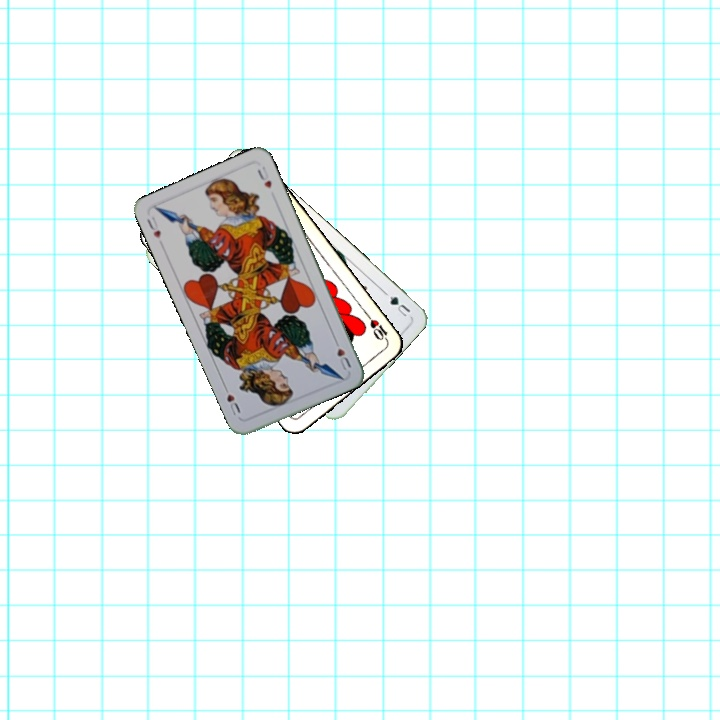GU: (386, 292, 413, 319)
H10: (362, 310, 391, 345)
HU: (330, 334, 354, 373), (143, 213, 163, 241)
